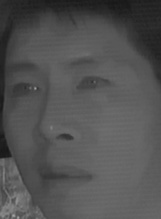eye: (73, 71, 109, 97), (9, 80, 43, 101)
mouth: (36, 161, 93, 193)
